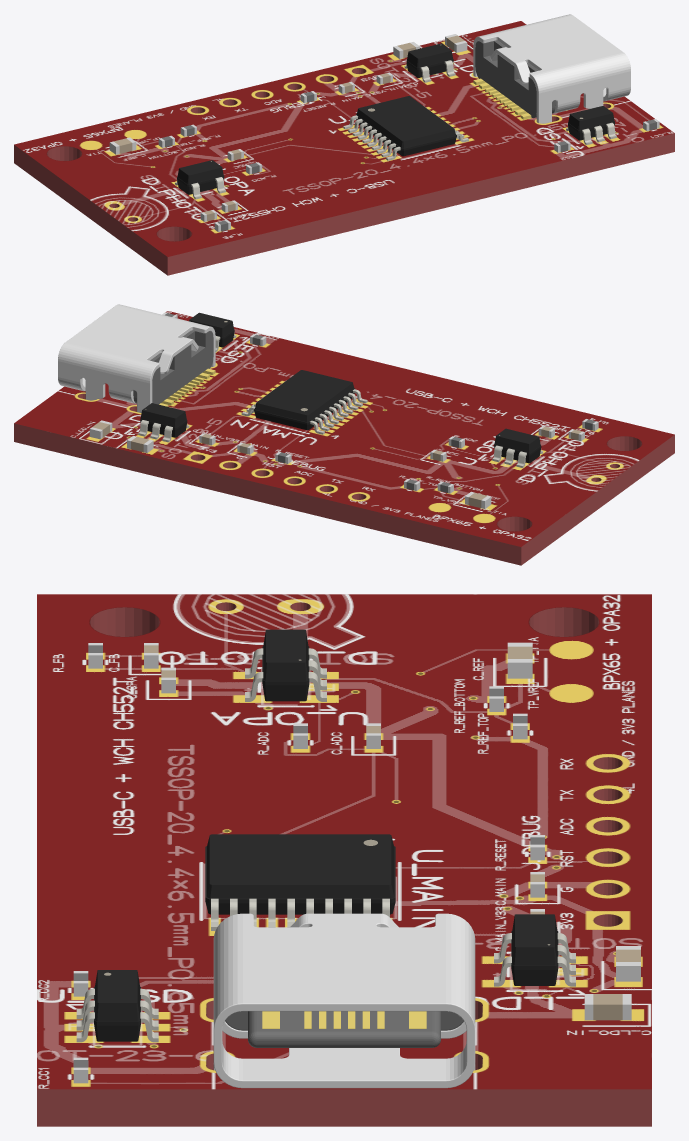
3 views of the same model, one above another, from view 1: azimuth 30°, elevation 25°; view 2: azimuth 150°, elevation 25°; view 3: azimuth 270°, elevation 25° (orthographic). The views are drawn at different scales.
Parts seen in each view (by area): view 1: Box0, J1, U_MAIN, U_ESD, U_LDO, U_OPA; view 2: Box0, J1, U_MAIN, U_LDO, U_OPA, U_ESD; view 3: Box0, J1, U_MAIN, U_ESD, U_OPA, U_LDO, C_LDO_IN, C_REF, C_LDO_OUT.
Part boxes in pixels (x1=…): Box0: x1=14, y1=21, x2=674, y2=275; J1: x1=473, y1=14, x2=630, y2=123; U_MAIN: x1=343, y1=96, x2=468, y2=160; U_ESD: x1=566, y1=106, x2=616, y2=145; U_LDO: x1=404, y1=43, x2=455, y2=82; U_OPA: x1=175, y1=160, x2=225, y2=199; Box0: x1=14, y1=311, x2=674, y2=565; J1: x1=58, y1=304, x2=215, y2=412; U_MAIN: x1=241, y1=370, x2=367, y2=434; U_LDO: x1=138, y1=403, x2=189, y2=442; U_OPA: x1=492, y1=428, x2=542, y2=467; U_ESD: x1=189, y1=312, x2=236, y2=351; Box0: x1=37, y1=594, x2=651, y2=1126; J1: x1=213, y1=913, x2=475, y2=1088; U_MAIN: x1=205, y1=834, x2=395, y2=930; U_ESD: x1=76, y1=970, x2=158, y2=1042; U_OPA: x1=245, y1=629, x2=326, y2=701; U_LDO: x1=494, y1=914, x2=575, y2=986; C_LDO_IN: x1=584, y1=994, x2=631, y2=1020; C_REF: x1=507, y1=642, x2=532, y2=678; C_LDO_OUT: x1=616, y1=946, x2=640, y2=981.
Size of the model in its own units: 40.04 by 4.65 by 21.
13 materials, 2 textured.
